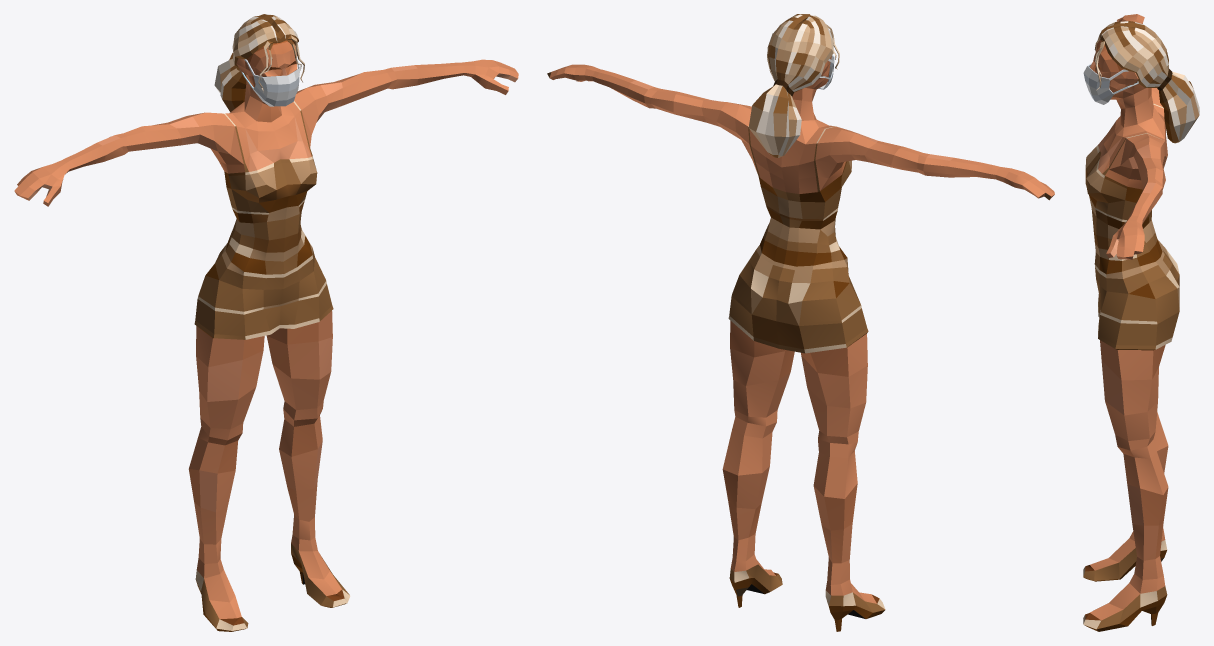
The model's file is night_Female_B-model.obj.
3 views of the same model, side by side, from view 1: azimuth 30°, elevation 25°; view 2: azimuth 150°, elevation 25°; view 3: azimuth 270°, elevation 25° (orthographic). The views are drawn at different scales.
Parts seen in each view (by area): view 1: night_Female_B, acc_hair_blond_fringes, acc_mask_white; view 2: night_Female_B, acc_hair_blond_fringes; view 3: night_Female_B, acc_hair_blond_fringes, acc_mask_white.
Part boxes in pixels (left/top/right/bottom): night_Female_B: left=14, top=40, right=518, bottom=631; acc_hair_blond_fringes: left=214, top=14, right=304, bottom=111; acc_mask_white: left=240, top=58, right=300, bottom=106; night_Female_B: left=547, top=56, right=1054, bottom=631; acc_hair_blond_fringes: left=748, top=14, right=839, bottom=157; night_Female_B: left=1083, top=14, right=1179, bottom=631; acc_hair_blond_fringes: left=1094, top=21, right=1199, bottom=143; acc_mask_white: left=1083, top=62, right=1138, bottom=104.
Size of the model in its own units: 160 by 179 by 32.79.
